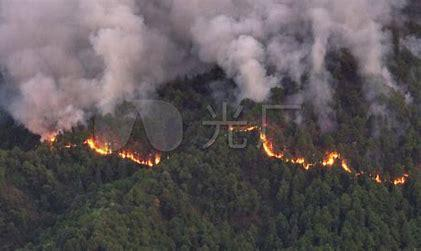smoke: (118, 147, 167, 167), (262, 136, 287, 158), (87, 137, 112, 156), (340, 157, 363, 176), (288, 154, 312, 169), (390, 171, 413, 186), (53, 139, 90, 148), (320, 150, 340, 166), (41, 128, 60, 144), (369, 169, 385, 184)
